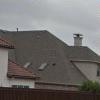Chimney: (66, 28, 90, 50)
